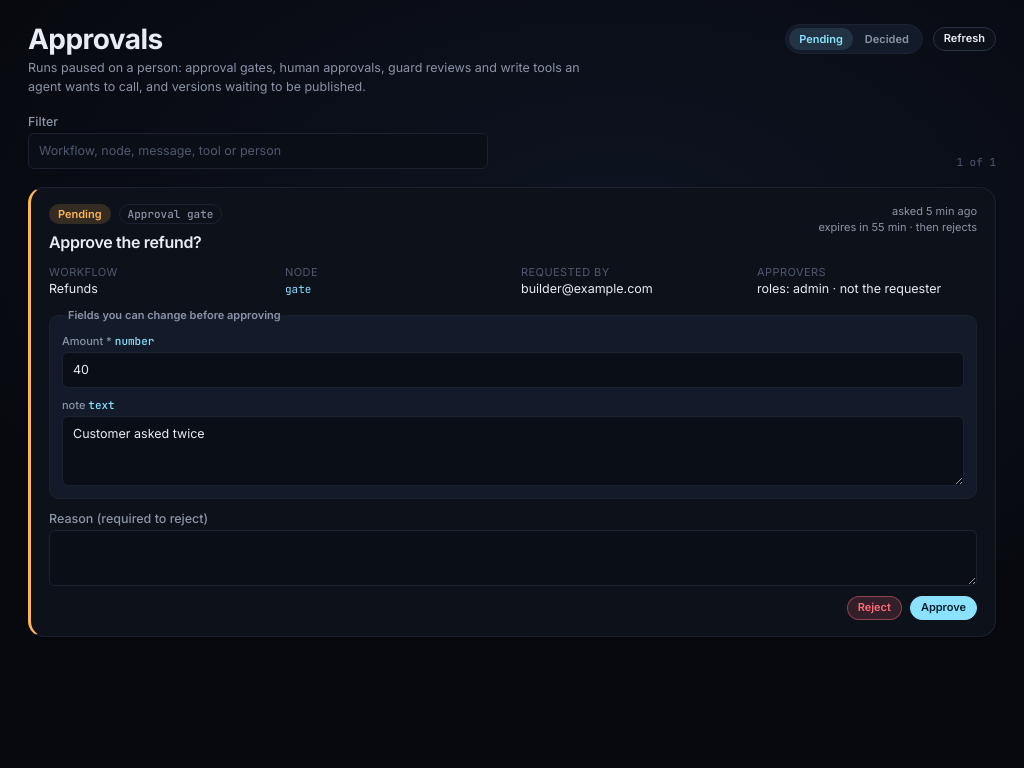
Scenario: ApprovalsPage › shows field errors before sending and from a refused decision
The width and height of the screenshot is (1024, 768).
Clear the number field labelled "Amount * number" at {"x": 513, "y": 370}, box [62, 352, 964, 388]
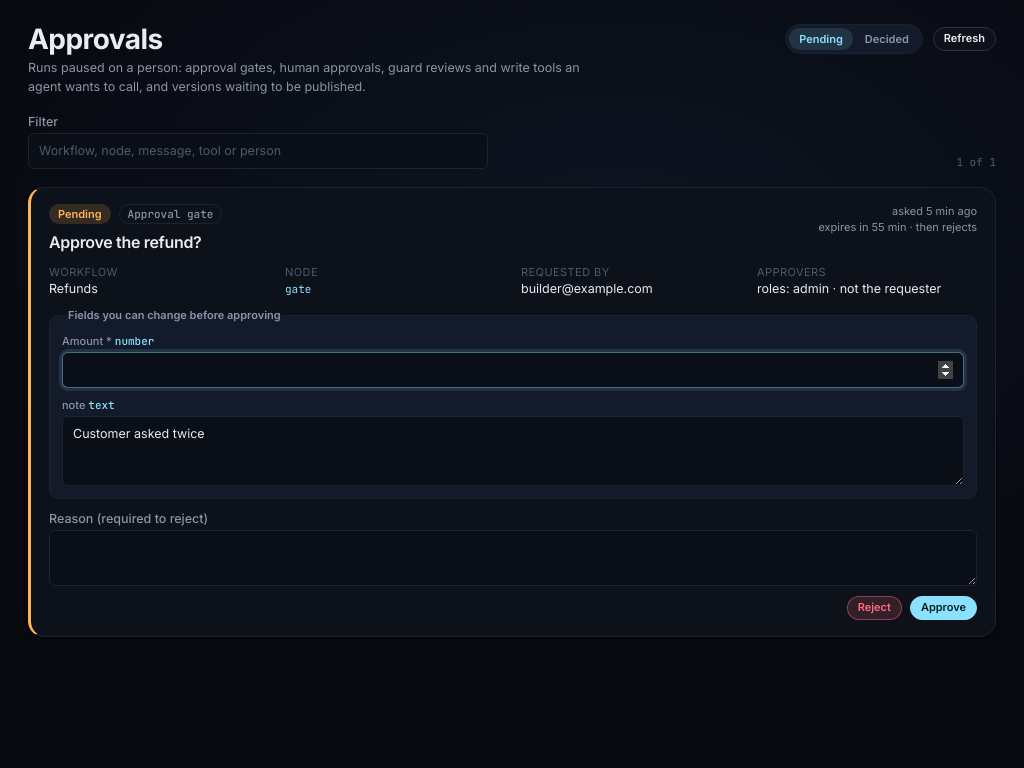
Click the button "Approve" at {"x": 943, "y": 608}, box [910, 596, 977, 620]
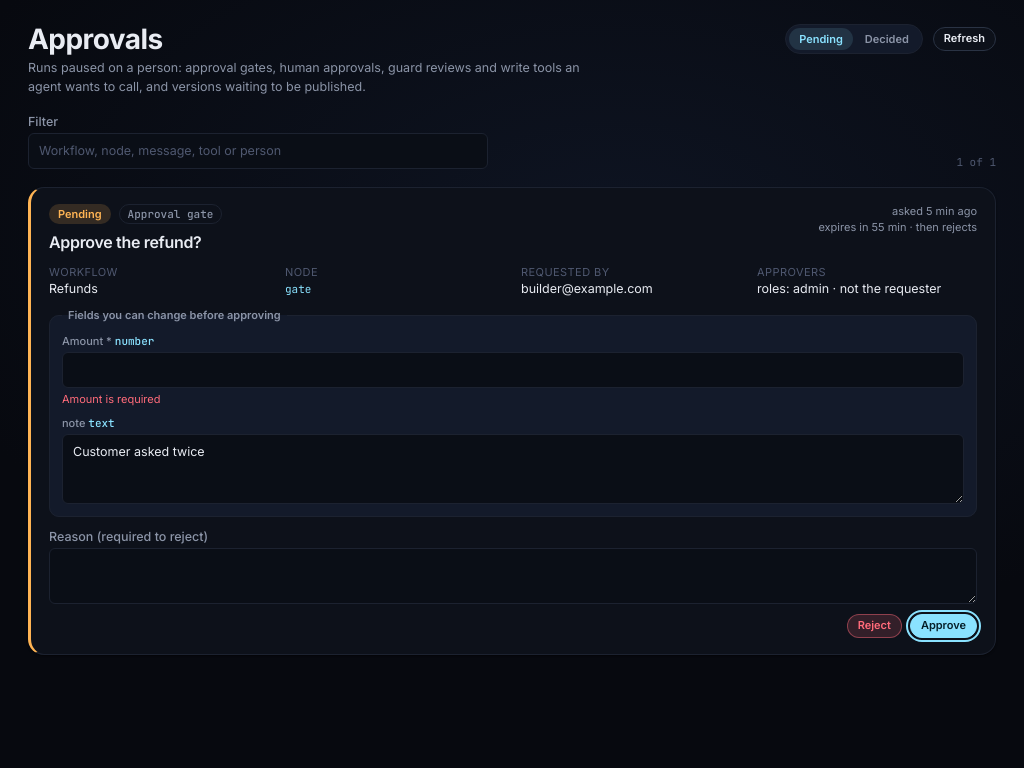
Expected: the text "Amount is required" is shown, [62, 392, 160, 406]
Type "10" into the number field labelled "Amount * number" at {"x": 513, "y": 370}, box [62, 352, 964, 388]
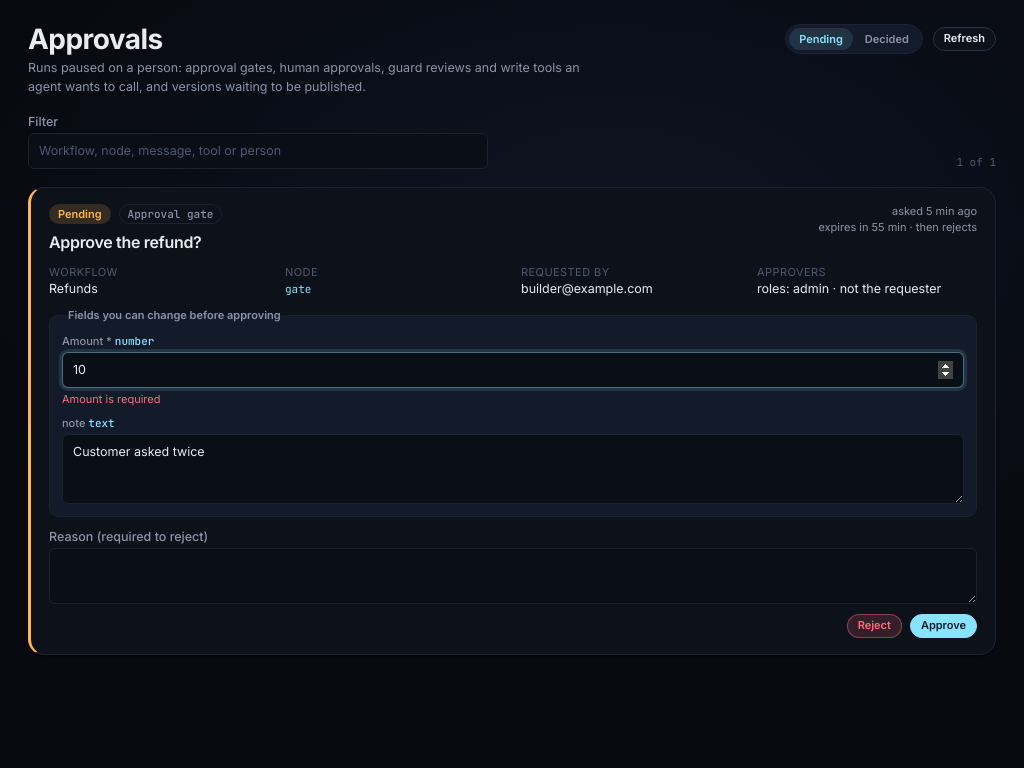
Click the button "Approve" at {"x": 943, "y": 626}, box [910, 614, 977, 638]
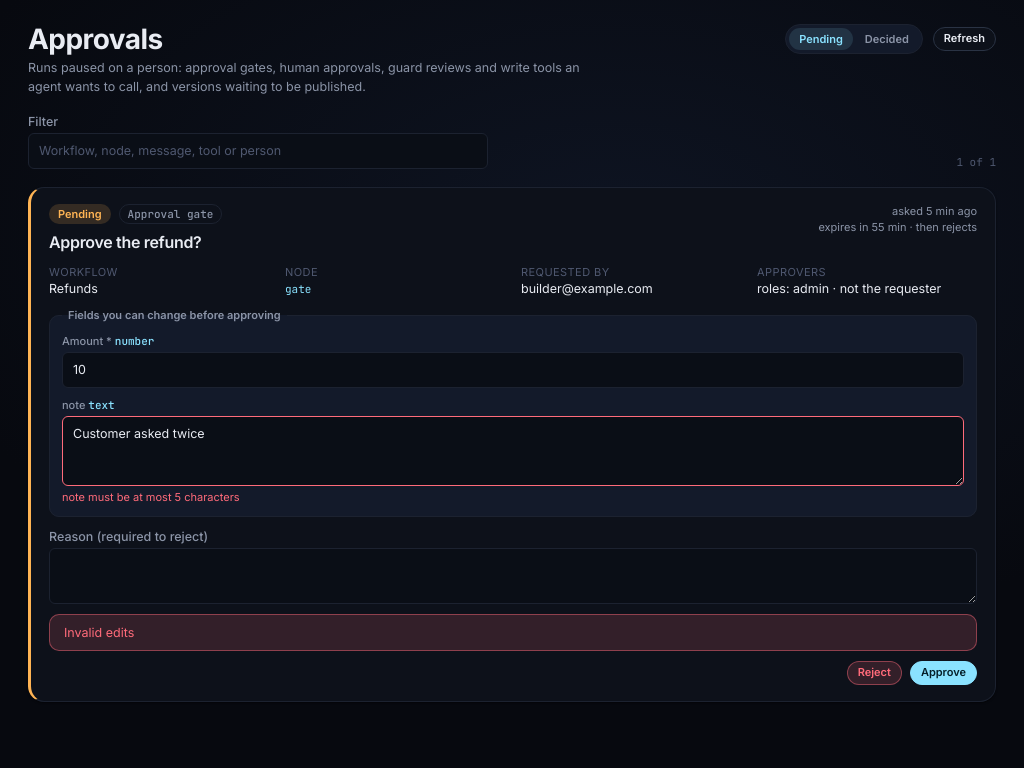
Expected: the text "note must be at most 5 characters" is shown, [62, 490, 240, 504]
Expected: the message reads "Invalid edits", [64, 625, 134, 640]
